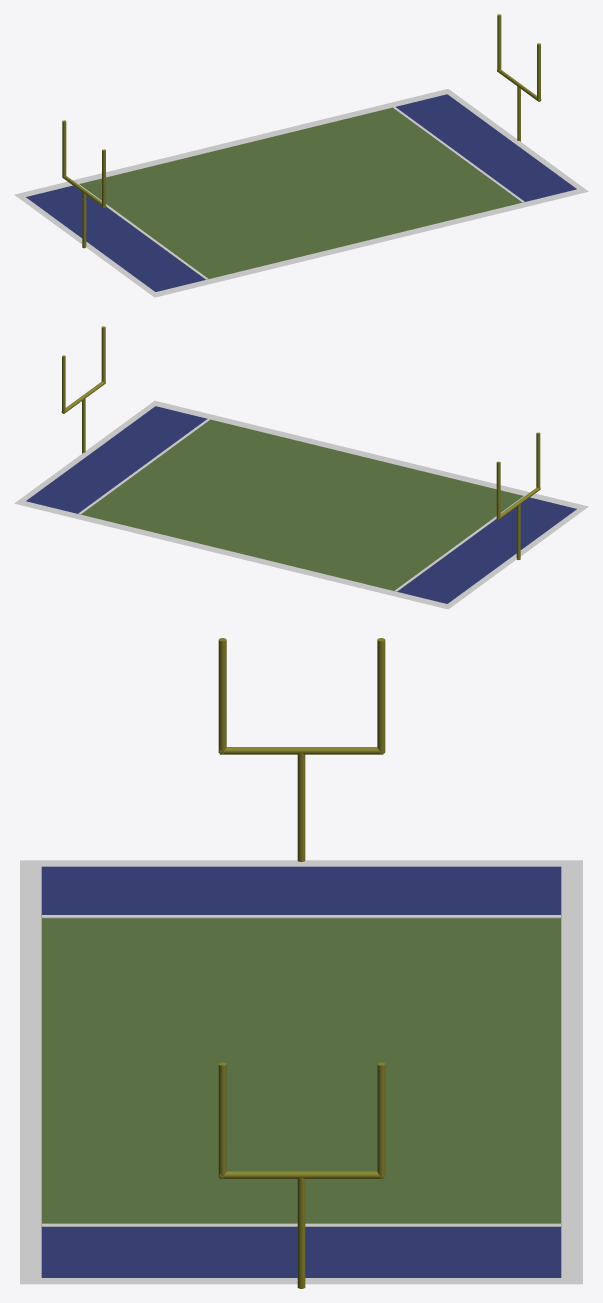
Rendered from FootBallField.fbx.
3 views of the same model, one above another, from view 1: azimuth 30°, elevation 25°; view 2: azimuth 150°, elevation 25°; view 3: azimuth 270°, elevation 25° (orthographic). The views are drawn at different scales.
Parts seen in each view (by area): view 1: BetaLevelProps:pPlane1, pCube1, pCube2; view 2: BetaLevelProps:pPlane1, pCube1, pCube2; view 3: BetaLevelProps:pPlane1, pCube2, pCube1, pCylinder2, pCylinder7, pCylinder8, pCylinder3, pCylinder5, pCylinder4, pCylinder6, pCylinder1.
Part boxes in pixels (x1=…): BetaLevelProps:pPlane1: x1=14, y1=89, x2=588, y2=297; pCube1: x1=392, y1=107, x2=524, y2=202; pCube2: x1=78, y1=184, x2=208, y2=279; BetaLevelProps:pPlane1: x1=14, y1=400, x2=588, y2=609; pCube1: x1=78, y1=418, x2=210, y2=514; pCube2: x1=394, y1=496, x2=524, y2=591; BetaLevelProps:pPlane1: x1=20, y1=860, x2=582, y2=1284; pCube2: x1=42, y1=915, x2=560, y2=918; pCube1: x1=42, y1=1223, x2=560, y2=1226; pCylinder2: x1=219, y1=747, x2=383, y2=754; pCylinder7: x1=219, y1=1171, x2=383, y2=1178; pCylinder8: x1=377, y1=1062, x2=385, y2=1178; pCylinder3: x1=377, y1=638, x2=385, y2=753; pCylinder5: x1=218, y1=1062, x2=226, y2=1178; pCylinder4: x1=218, y1=638, x2=226, y2=753; pCylinder6: x1=297, y1=1176, x2=305, y2=1288; pCylinder1: x1=297, y1=752, x2=305, y2=861.
Bounding box in the file's own units: 61.5 × 15.22 × 34.2.
